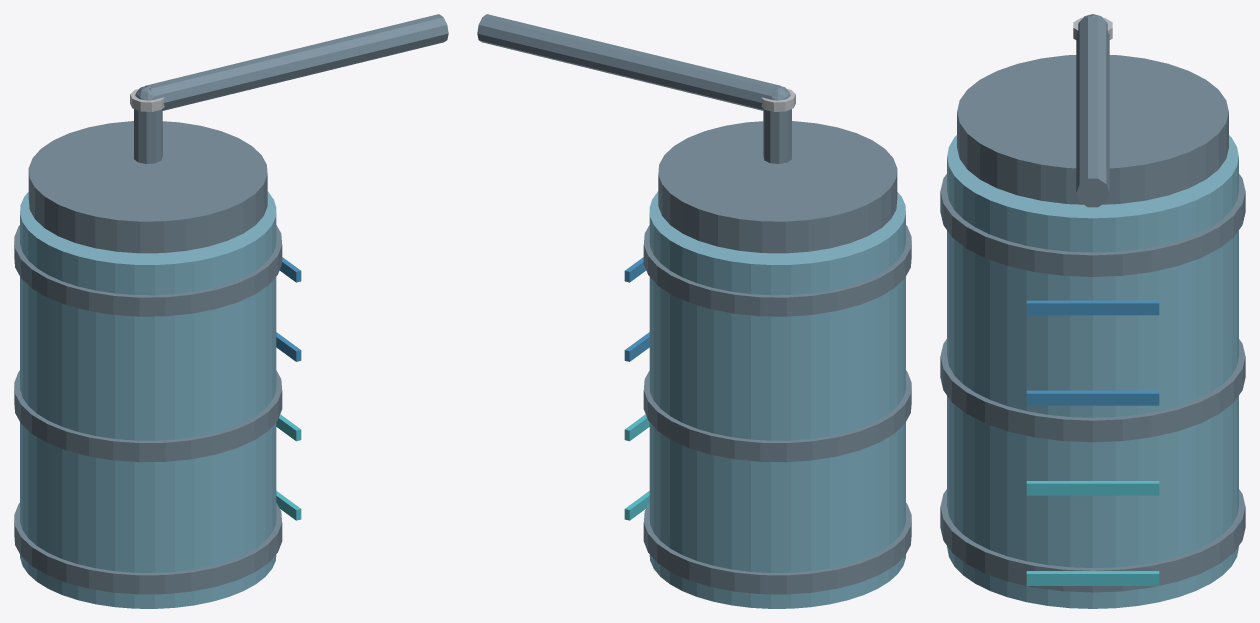
Rendered from 16_L73_AbrasiveSlurryMixingTank.glb.
3 views of the same model, side by side, from view 1: azimuth 30°, elevation 25°; view 2: azimuth 150°, elevation 25°; view 3: azimuth 270°, elevation 25° (orthographic). The views are drawn at different scales.
Parts seen in each view (by area): view 1: AbrasiveSlurryMixingTank_Node_0000, AbrasiveSlurryMixingTank_Node_0008, AbrasiveSlurryMixingTank_Node_0060, AbrasiveSlurryMixingTank_Node_0001, AbrasiveSlurryMixingTank_Node_0003, AbrasiveSlurryMixingTank_Node_0005, AbrasiveSlurryMixingTank_Node_0059; view 2: AbrasiveSlurryMixingTank_Node_0000, AbrasiveSlurryMixingTank_Node_0008, AbrasiveSlurryMixingTank_Node_0060, AbrasiveSlurryMixingTank_Node_0001, AbrasiveSlurryMixingTank_Node_0003, AbrasiveSlurryMixingTank_Node_0005, AbrasiveSlurryMixingTank_Node_0059; view 3: AbrasiveSlurryMixingTank_Node_0000, AbrasiveSlurryMixingTank_Node_0008, AbrasiveSlurryMixingTank_Node_0003, AbrasiveSlurryMixingTank_Node_0005, AbrasiveSlurryMixingTank_Node_0001, AbrasiveSlurryMixingTank_Node_0060, AbrasiveSlurryMixingTank_Node_0057, AbrasiveSlurryMixingTank_Node_0058, AbrasiveSlurryMixingTank_Node_0055, AbrasiveSlurryMixingTank_Node_0056.
Part boxes in pixels (box(x1,y1,x2,y2)): AbrasiveSlurryMixingTank_Node_0000: box(20, 191, 276, 608); AbrasiveSlurryMixingTank_Node_0008: box(28, 121, 267, 253); AbrasiveSlurryMixingTank_Node_0060: box(145, 14, 448, 110); AbrasiveSlurryMixingTank_Node_0001: box(14, 503, 282, 594); AbrasiveSlurryMixingTank_Node_0003: box(14, 370, 282, 462); AbrasiveSlurryMixingTank_Node_0005: box(14, 225, 282, 316); AbrasiveSlurryMixingTank_Node_0059: box(134, 109, 162, 163); AbrasiveSlurryMixingTank_Node_0000: box(649, 191, 905, 608); AbrasiveSlurryMixingTank_Node_0008: box(658, 121, 897, 253); AbrasiveSlurryMixingTank_Node_0060: box(477, 14, 780, 110); AbrasiveSlurryMixingTank_Node_0001: box(643, 503, 911, 594); AbrasiveSlurryMixingTank_Node_0003: box(643, 370, 911, 462); AbrasiveSlurryMixingTank_Node_0005: box(643, 225, 911, 316); AbrasiveSlurryMixingTank_Node_0059: box(763, 109, 791, 163); AbrasiveSlurryMixingTank_Node_0000: box(947, 135, 1238, 608); AbrasiveSlurryMixingTank_Node_0008: box(957, 55, 1228, 204); AbrasiveSlurryMixingTank_Node_0003: box(940, 339, 1245, 442); AbrasiveSlurryMixingTank_Node_0005: box(940, 174, 1245, 276); AbrasiveSlurryMixingTank_Node_0001: box(940, 489, 1245, 592); AbrasiveSlurryMixingTank_Node_0060: box(1076, 16, 1109, 207); AbrasiveSlurryMixingTank_Node_0057: box(1026, 390, 1159, 405); AbrasiveSlurryMixingTank_Node_0058: box(1026, 300, 1159, 315); AbrasiveSlurryMixingTank_Node_0055: box(1026, 571, 1159, 585); AbrasiveSlurryMixingTank_Node_0056: box(1026, 481, 1159, 495).
Bounding box in the file's own units: 1.62 × 1.77 × 0.92.
